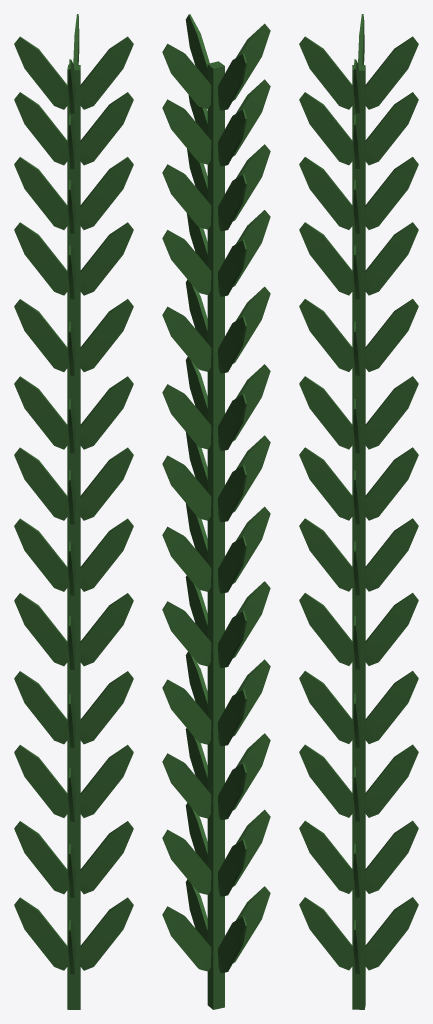
The model's file is SM_KelpPlaceHolder3_L.fbx.
3 views of the same model, side by side, from view 1: azimuth 90°, elevation 25°; view 2: azimuth 210°, elevation 25°; view 3: azimuth 270°, elevation 25° (orthographic).
Parts seen in each view (by area): view 1: pCube37; view 2: pCube37; view 3: pCube37.
Part boxes in pixels (<box>): pCube37: <box>14,14,133,1009</box>; pCube37: <box>162,14,270,1009</box>; pCube37: <box>299,14,418,1009</box>.
Size of the model in its own units: 112 by 1006 by 112.
